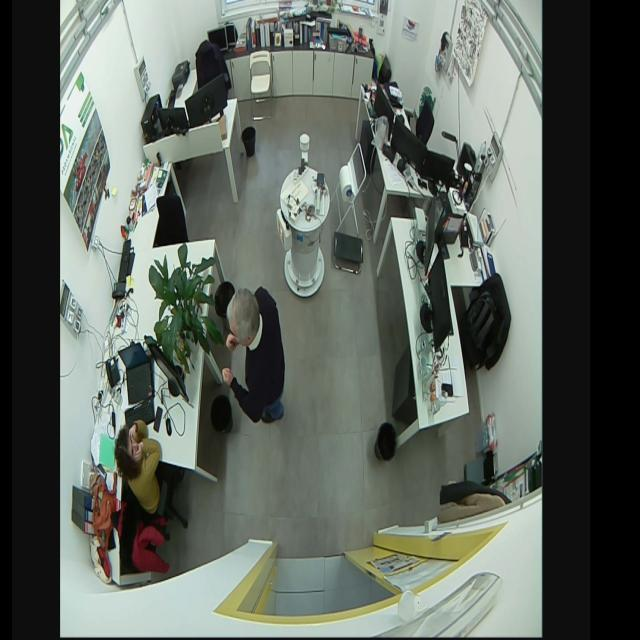Persona: (220, 284, 289, 428), (112, 414, 165, 519)
